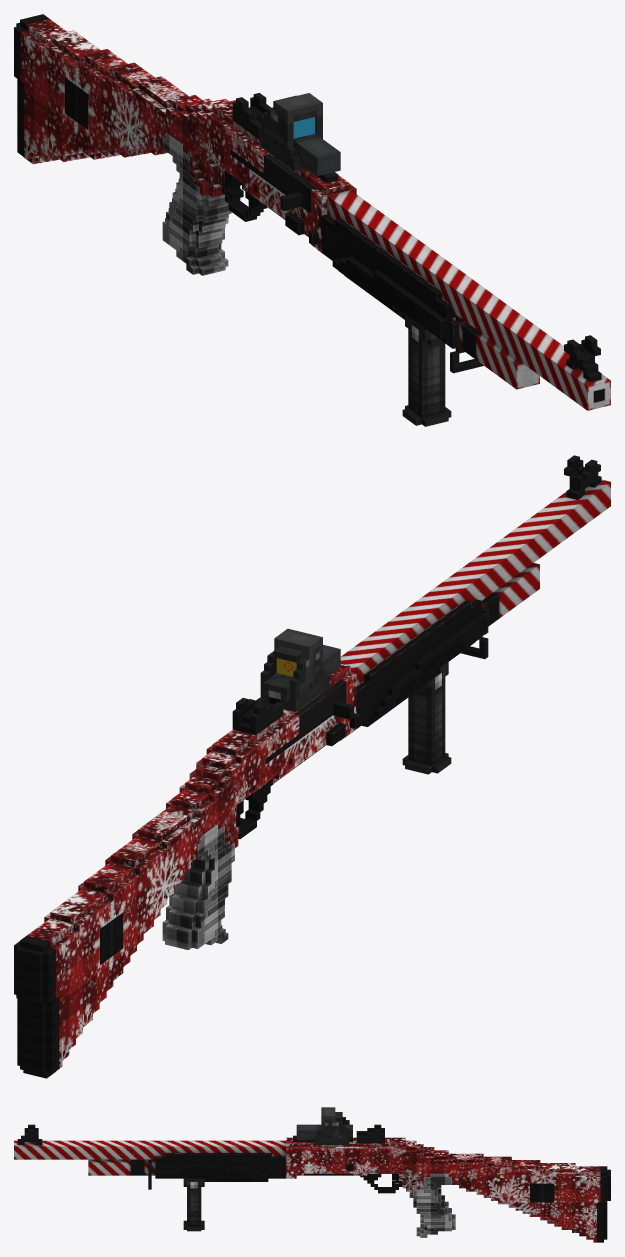
File: RD_BENELLI_M2_NY22.glb
3 renders of one model, top to bottom at view 1: azimuth 30°, elevation 25°; view 2: azimuth 150°, elevation 25°; view 3: azimuth 270°, elevation 25°, orthographic. The views are drawn at different scales.
Visible parts, largest first — view 1: BENELLI_M2, GRIP1, SCOPE_EOTECH, SCOPE_HOLOSUN, SCOPE_AIMPOINT; view 2: BENELLI_M2, GRIP1, SCOPE_EOTECH, SCOPE_HOLOSUN; view 3: BENELLI_M2, SCOPE_EOTECH, GRIP1, SCOPE_HOLOSUN.
Part boxes in pixels (left/top/right/bottom): BENELLI_M2: left=14, top=14, right=610, bottom=410; GRIP1: left=402, top=314, right=451, bottom=426; SCOPE_EOTECH: left=260, top=95, right=340, bottom=176; SCOPE_HOLOSUN: left=260, top=93, right=322, bottom=158; SCOPE_AIMPOINT: left=281, top=110, right=322, bottom=141; BENELLI_M2: left=14, top=455, right=610, bottom=1078; GRIP1: left=402, top=662, right=451, bottom=774; SCOPE_EOTECH: left=260, top=645, right=340, bottom=711; SCOPE_HOLOSUN: left=274, top=628, right=322, bottom=711; BENELLI_M2: left=14, top=1124, right=610, bottom=1242; SCOPE_EOTECH: left=296, top=1112, right=349, bottom=1144; GRIP1: left=183, top=1178, right=204, bottom=1231; SCOPE_HOLOSUN: left=321, top=1107, right=349, bottom=1144.
Size of the model in its own units: 0.0984 by 0.3937 by 1.66.
Materials: 8 (8 with a texture image).
